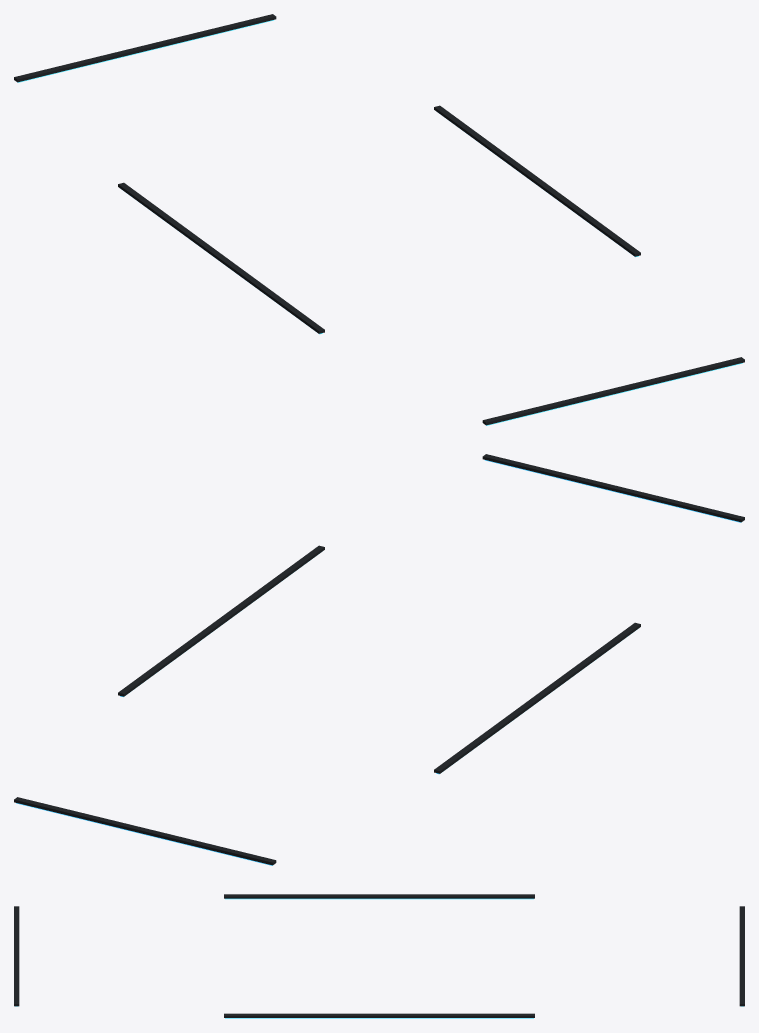
Rendered from underglow_blue.glb.
3 views of the same model, one above another, from view 1: azimuth 30°, elevation 25°; view 2: azimuth 150°, elevation 25°; view 3: azimuth 270°, elevation 25° (orthographic). The views are drawn at different scales.
Visible parts, largest first — view 1: model; view 2: model; view 3: model.
Boxes of the visible parts, x1,y1,x2,y2 form: model: [14, 14, 744, 425]; model: [14, 454, 744, 865]; model: [14, 894, 744, 1018].
Size of the model in its own units: 1.49 by 0.018 by 3.78.
Materials: 2 (1 with a texture image).
